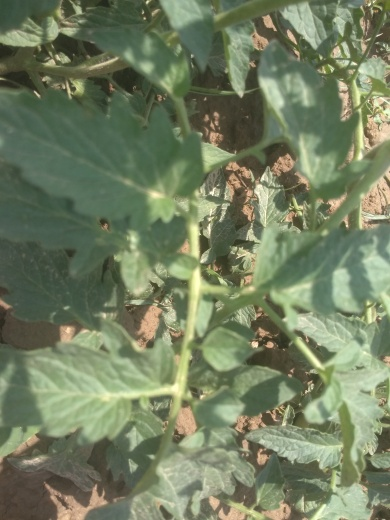tomato plant: (1, 17, 372, 510)
